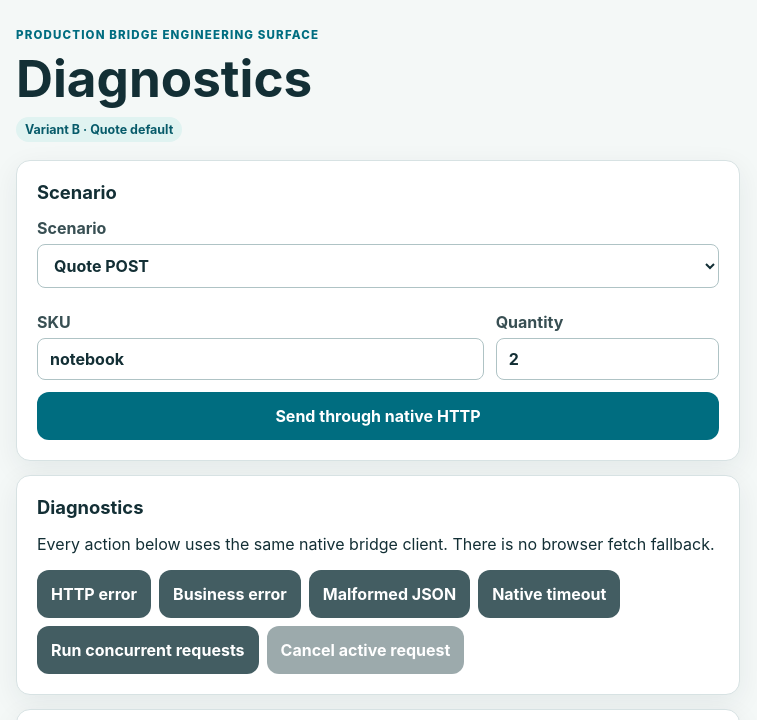
Scenario: opt-in TechnicalPanel with explicitly mocked native boundary › retains variant B quote as the default structured scenario
Expected: the dropdown with test id "lab.scenario" shows "Quote POST", [37,244,719,288]
Step 1. Click the button with test id "lab.submit" → (378, 416), box [37,392,719,440]
(page scrolled)
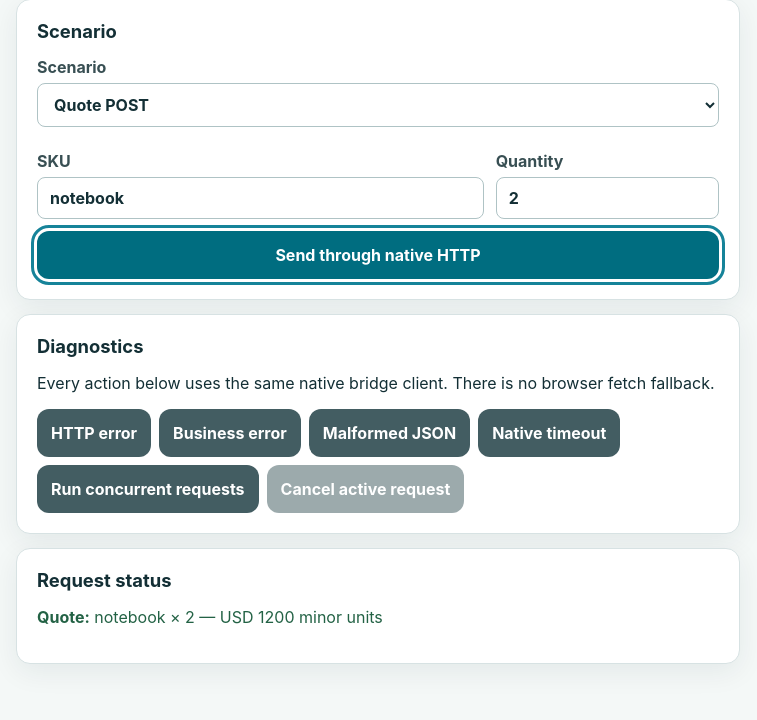
Now the element with test id "lab.result" shows "USD 1200 minor units", box [94,607,383,627]
